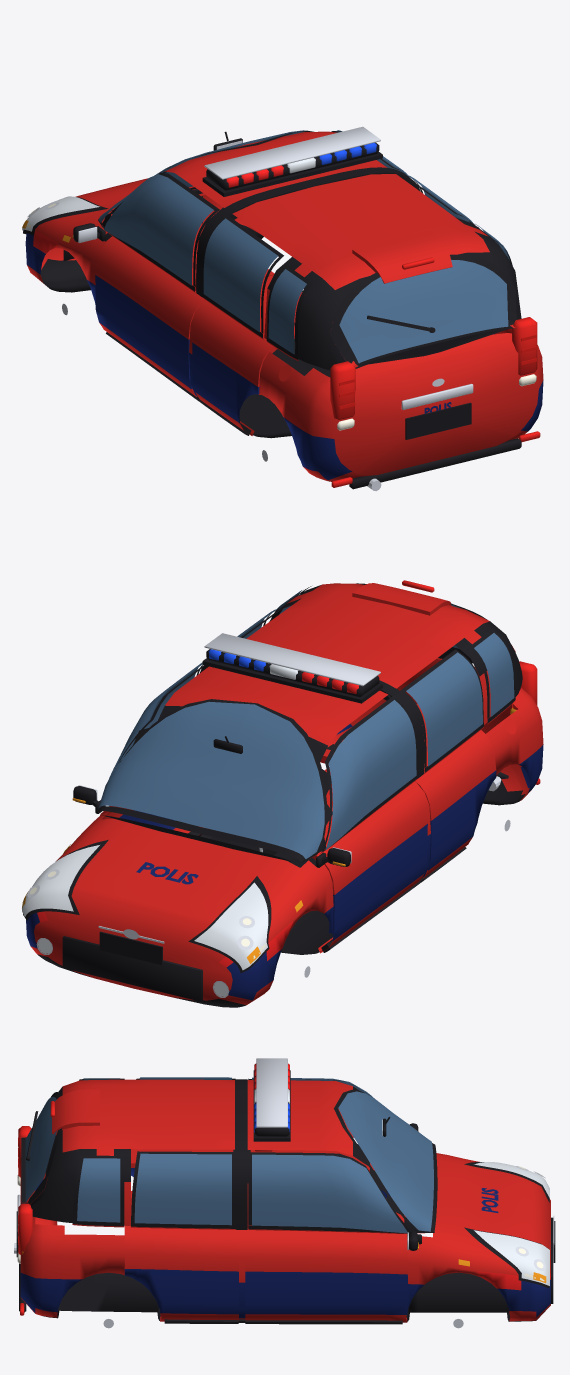
Rendered from veh_polis.fbx.
3 renders of one model, top to bottom at view 1: azimuth 30°, elevation 25°; view 2: azimuth 150°, elevation 25°; view 3: azimuth 270°, elevation 25°, orthographic. The views are drawn at different scales.
Visible parts, largest first — view 1: Body, Glass, Detail, Door_FL, Door_RL, Door_FL_Glass, LightBar, Door_RL_Glass, BrakeLights, HeadLights; view 2: Body, Glass, Detail, Door_FL, Door_FL_Glass, Door_RL, LightBar, HeadLights, Door_RL_Glass, Door_FR_Glass, BrakeLights, Door_FR; view 3: Body, Door_FR, Glass, Door_RR, Door_FR_Glass, Detail, Door_RR_Glass, LightBar, HeadLights, BrakeLights, Door_RL, Door_FL.
Boxes of the visible parts, x1=… form: Body: x1=25, y1=131, x2=543, y2=481; Glass: x1=98, y1=130, x2=509, y2=363; Detail: x1=22, y1=130, x2=521, y2=491; Door_FL: x1=95, y1=173, x2=274, y2=401; Door_RL: x1=192, y1=215, x2=302, y2=435; Door_FL_Glass: x1=104, y1=174, x2=213, y2=285; LightBar: x1=202, y1=126, x2=382, y2=196; Door_RL_Glass: x1=203, y1=218, x2=277, y2=332; BrakeLights: x1=330, y1=257, x2=540, y2=487; HeadLights: x1=22, y1=196, x2=99, y2=231; Body: x1=26, y1=583, x2=543, y2=1007; Glass: x1=98, y1=590, x2=514, y2=858; Detail: x1=22, y1=583, x2=516, y2=1001; Door_FL: x1=312, y1=696, x2=427, y2=953; Door_FL_Glass: x1=326, y1=700, x2=416, y2=849; Door_RL: x1=400, y1=649, x2=496, y2=882; LightBar: x1=202, y1=633, x2=382, y2=703; HeadLights: x1=22, y1=845, x2=268, y2=970; Door_RL_Glass: x1=406, y1=652, x2=482, y2=766; Door_FR_Glass: x1=109, y1=662, x2=202, y2=778; BrakeLights: x1=402, y1=580, x2=540, y2=784; Door_FR: x1=100, y1=665, x2=205, y2=836; Body: x1=20, y1=1079, x2=550, y2=1321; Door_FR: x1=245, y1=1152, x2=410, y2=1324; Glass: x1=25, y1=1078, x2=433, y2=1231; Door_RR: x1=124, y1=1151, x2=238, y2=1323; Door_FR_Glass: x1=252, y1=1154, x2=407, y2=1233; Detail: x1=14, y1=1078, x2=555, y2=1322; Door_RR_Glass: x1=134, y1=1153, x2=231, y2=1225; LightBar: x1=253, y1=1058, x2=290, y2=1141; HeadLights: x1=474, y1=1162, x2=549, y2=1285; BrakeLights: x1=18, y1=1101, x2=54, y2=1315; Door_RL: x1=131, y1=1078, x2=235, y2=1176; Door_FL: x1=248, y1=1078, x2=390, y2=1198.
Size of what is drawn, in the model's own units: 1.94 by 1.69 by 3.78.
Materials: 1 (1 with a texture image).
